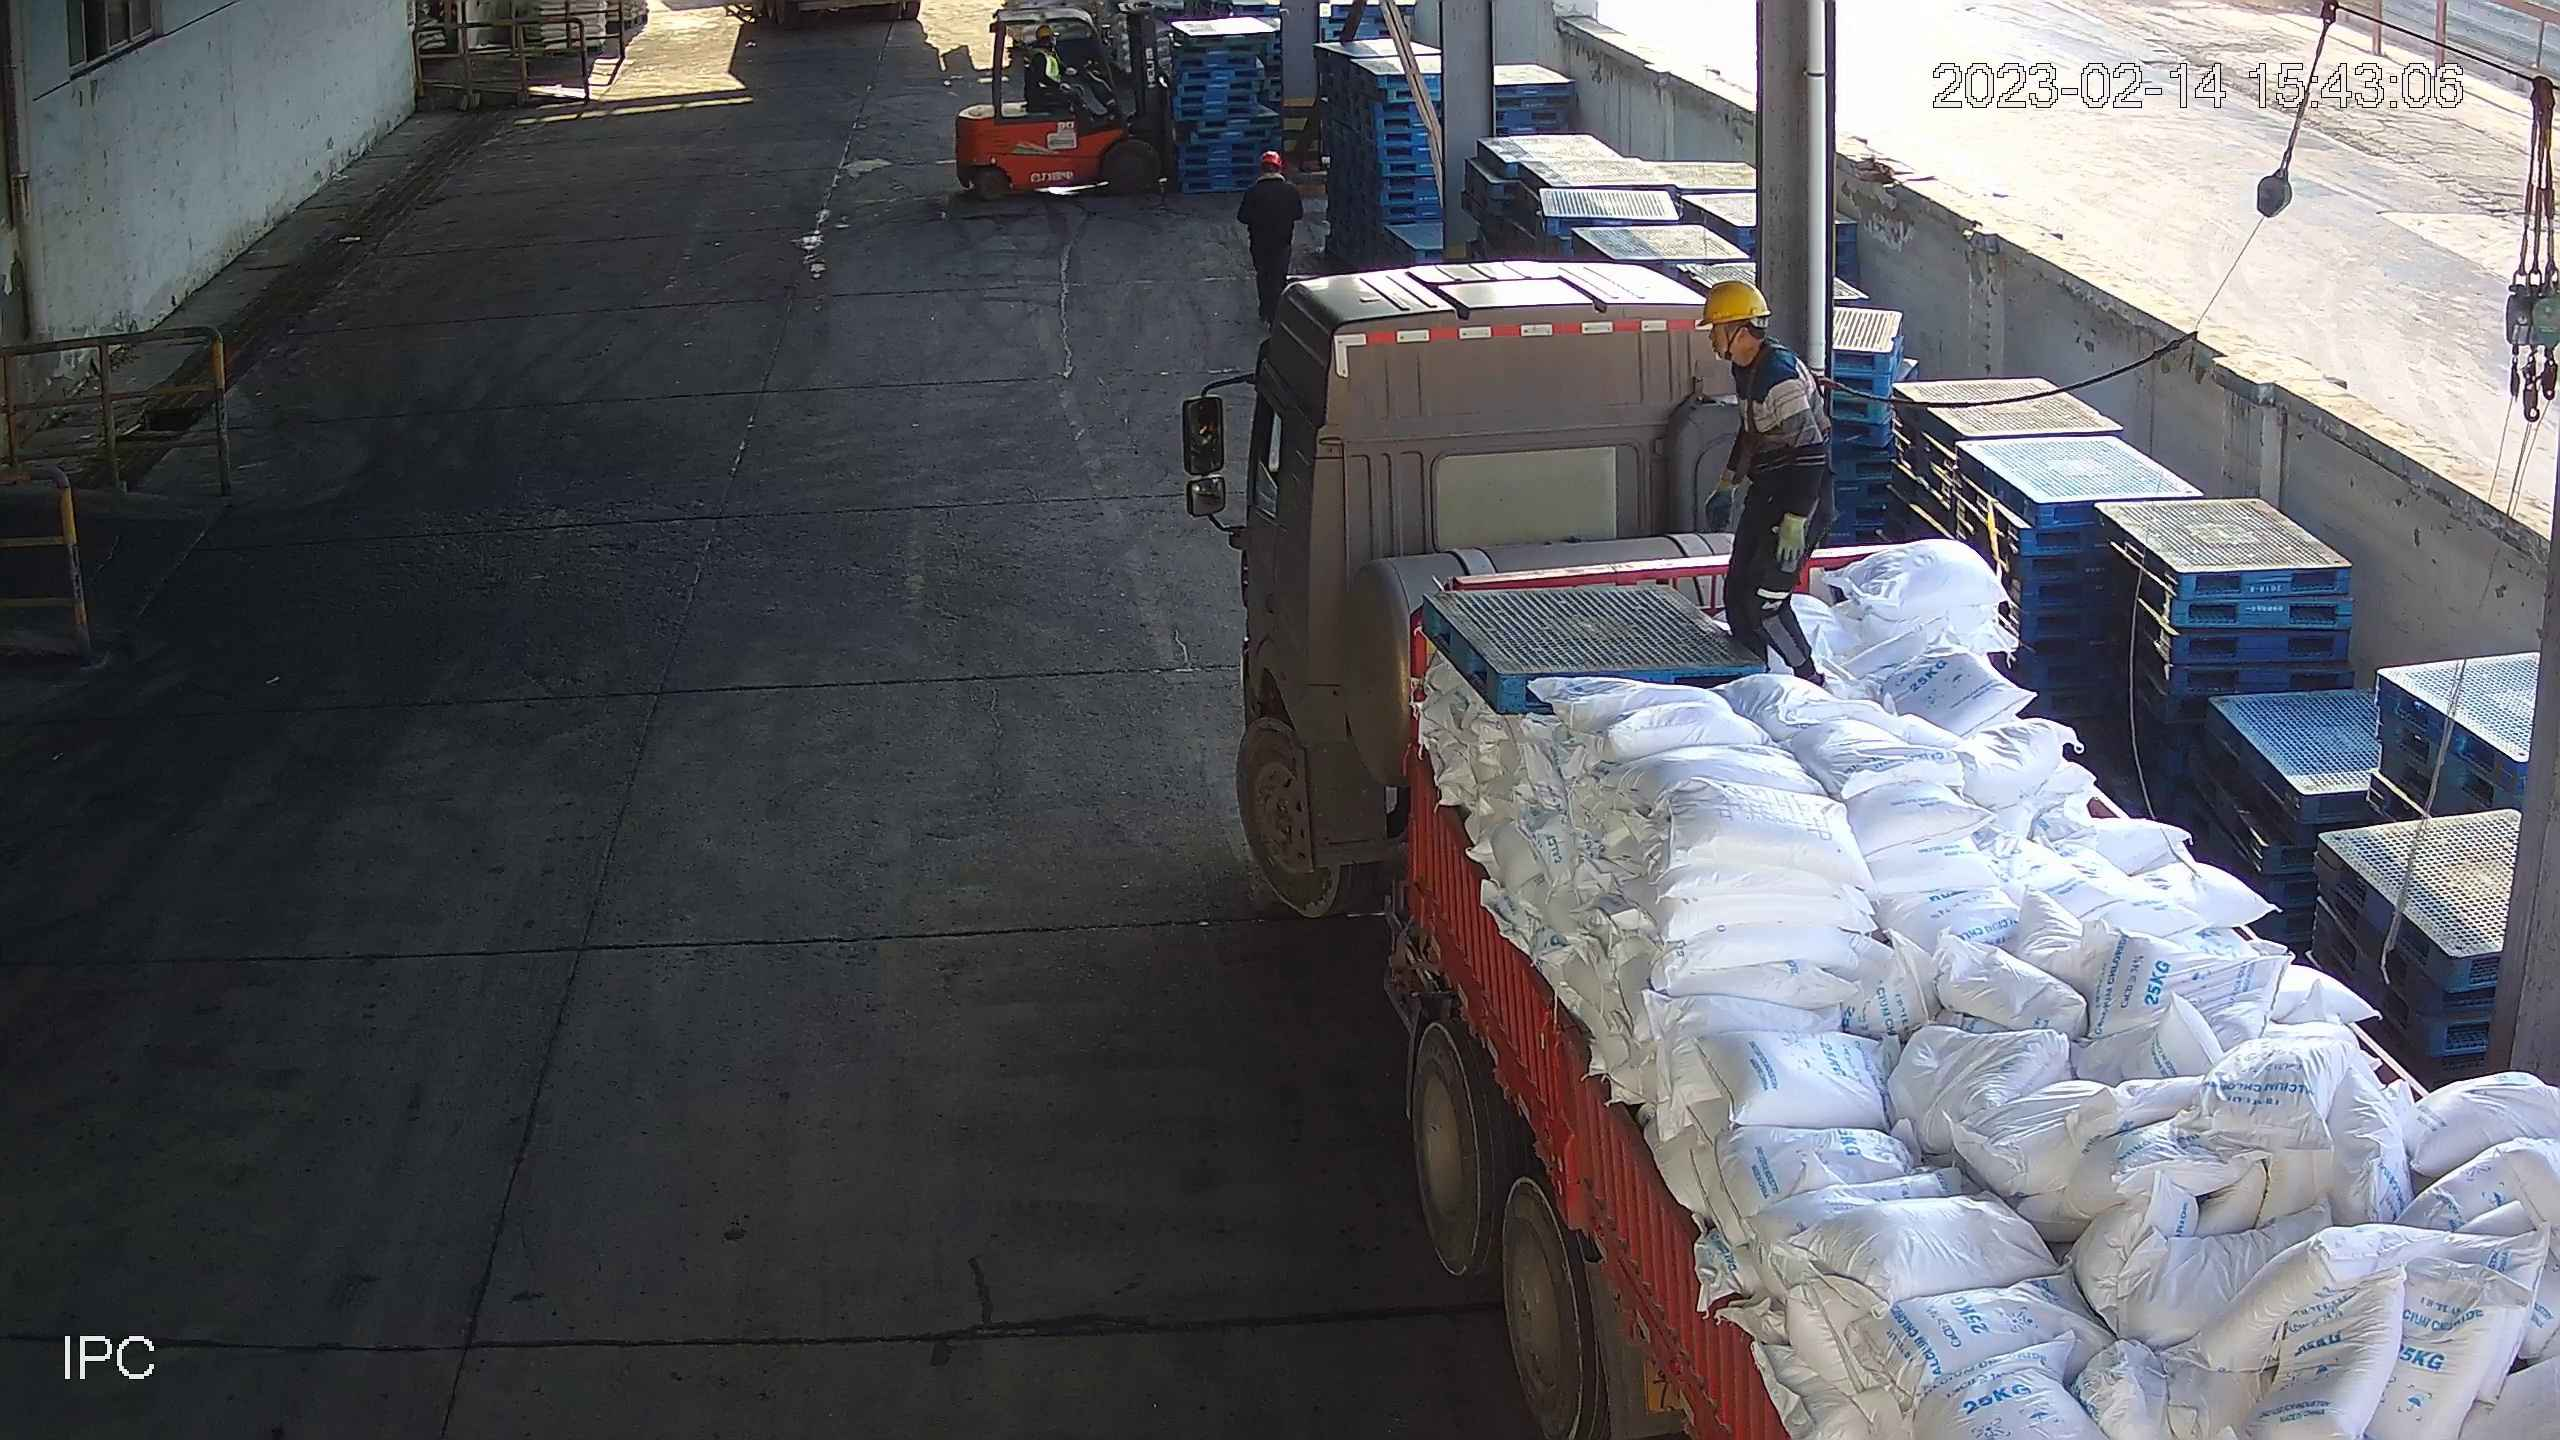belt: (1735, 346, 1829, 436)
head: (1698, 278, 1817, 394), (1250, 151, 1295, 189), (1028, 27, 1065, 68)
helmet: (1699, 281, 1770, 323), (1257, 149, 1288, 171), (1032, 23, 1058, 39)
people: (1699, 276, 1841, 695), (1235, 149, 1297, 333), (1028, 26, 1106, 118)
truck: (1179, 265, 2560, 1440)
